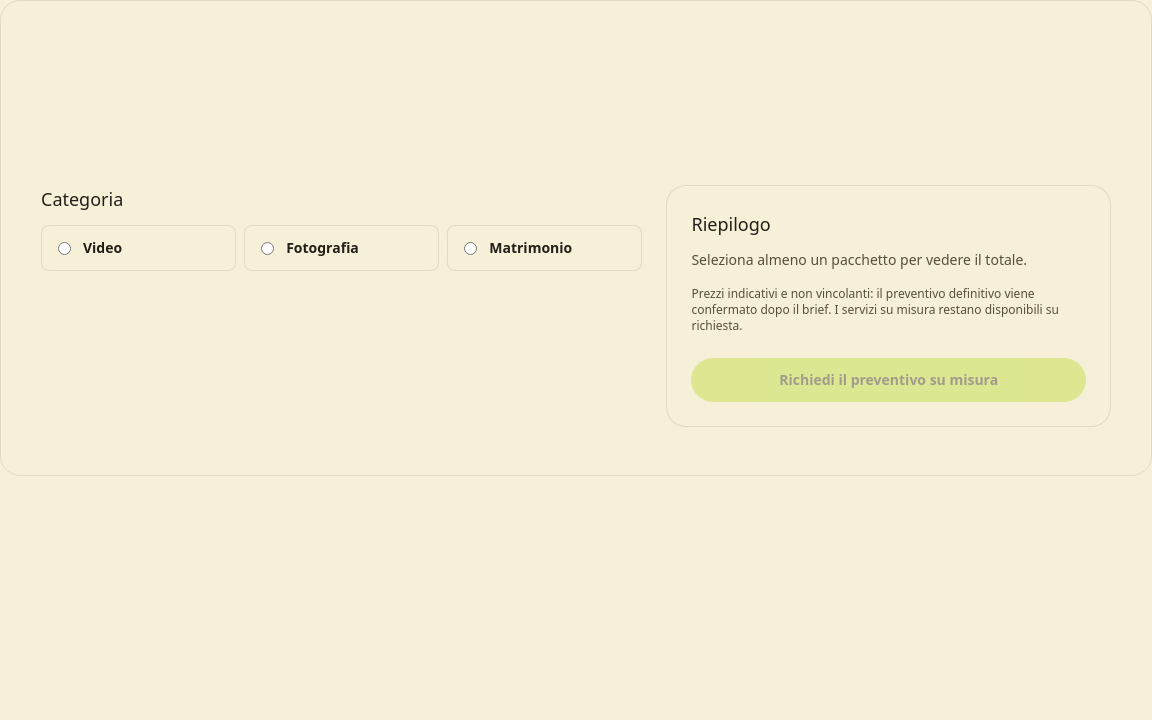
it: QuoteEstimator › shows the subcategories of the chosen macrocategory
This screenshot has width=1152, height=720.
Click the radio button labelled "Fotografia": (268, 248) [261, 242, 274, 255]
(page scrolled)
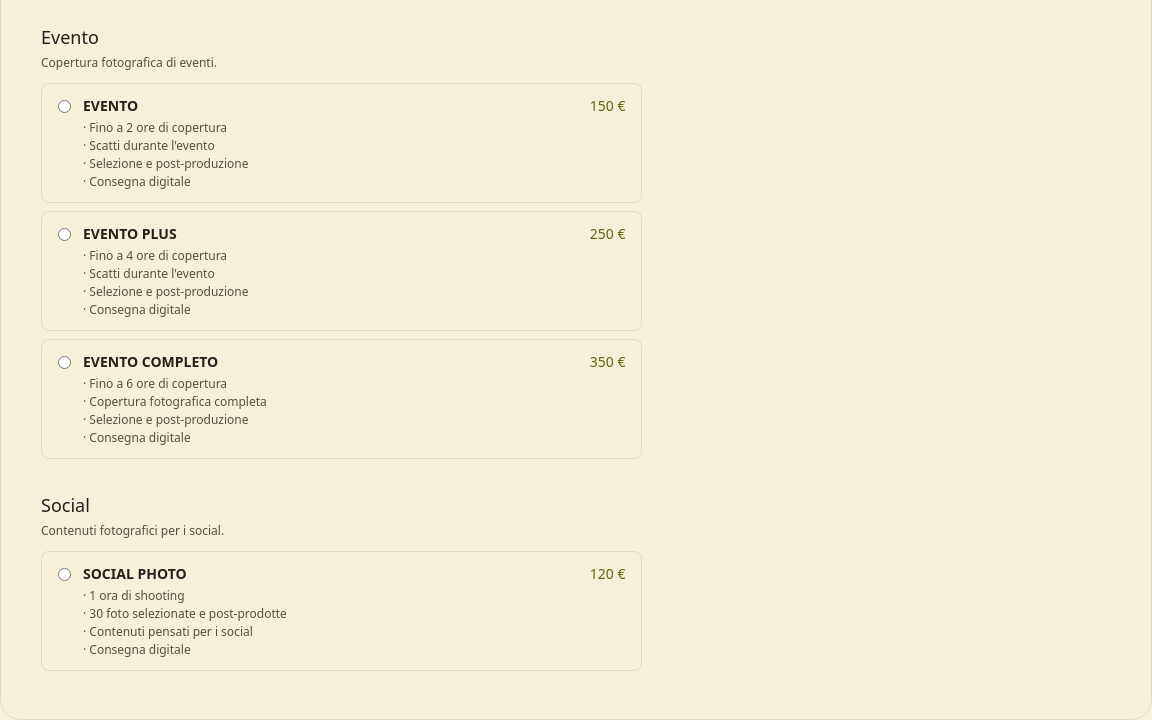
Expected: the element "Evento" is shown, [41, 23, 642, 459]
Expected: the element "Social" is shown, [41, 491, 642, 671]
